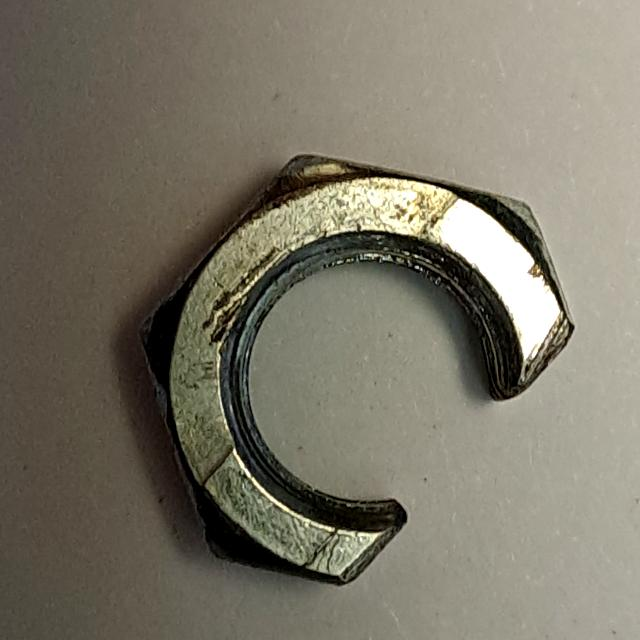Fracture: (113, 136, 581, 606)
